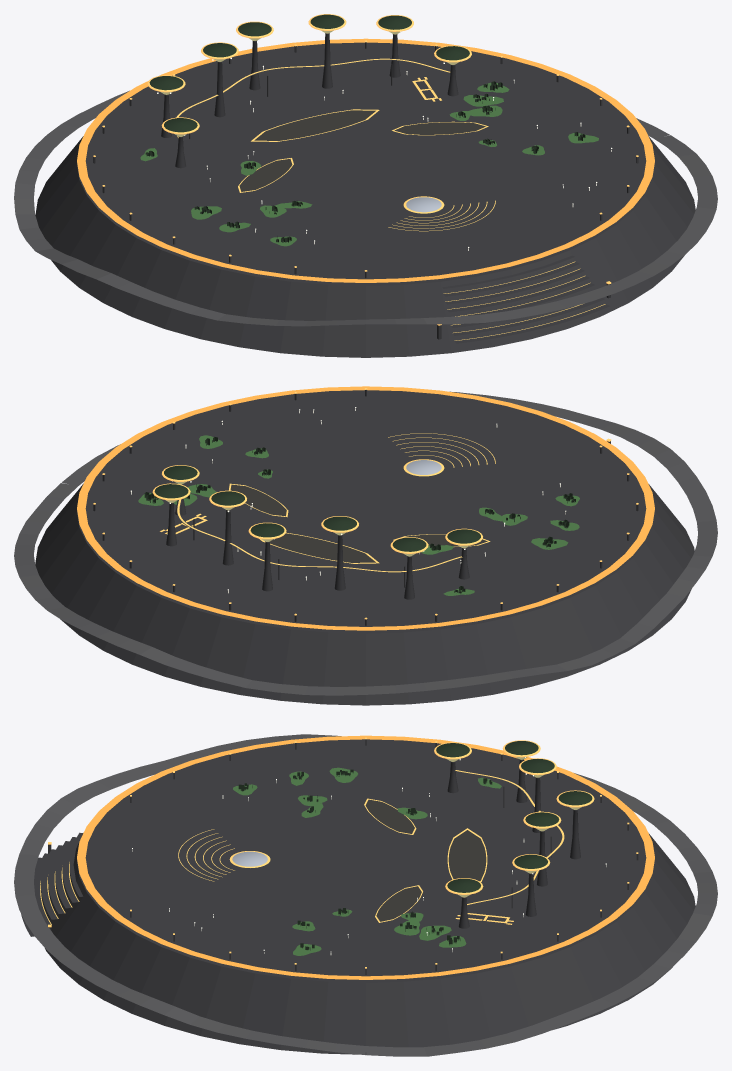
The model's file is plaza.glb.
The picture shows the model from 3 angles, top to bottom: view 1: azimuth 30°, elevation 25°; view 2: azimuth 150°, elevation 25°; view 3: azimuth 270°, elevation 25°; orthographic projection.
Parts seen in each view (by area): view 1: CentralEventPlaza, PlazaPodium, PlazaRingRoad, PlazaRing, PZ_Planters, PZ_Pool0, PZ_Flora, PZ_Pool2, PZ_Pool1, PZ_Stair7, PZ_Skywalk, PZ_Stair6 (+2 smaller); view 2: CentralEventPlaza, PlazaPodium, PlazaRingRoad, PlazaRing, PZ_Planters, PZ_Pool0, PZ_Flora, PZ_Pool2, PZ_Skywalk, PZ_SkywalkGlow; view 3: CentralEventPlaza, PlazaPodium, PlazaRingRoad, PlazaRing, PZ_Planters, PZ_Pool0, PZ_Flora, PZ_Pool2, PZ_Pool1.
Boxes of the visible parts, box(x1,y1,x2,y2) form: CentralEventPlaza: box(85, 42, 646, 284); PlazaPodium: box(35, 136, 695, 357); PlazaRingRoad: box(14, 90, 717, 326); PlazaRing: box(77, 38, 654, 282); PZ_Planters: box(140, 82, 598, 246); PZ_Pool0: box(254, 110, 375, 140); PZ_Flora: box(145, 81, 585, 242); PZ_Pool2: box(395, 122, 485, 134); PZ_Pool1: box(239, 159, 292, 191); PZ_Stair7: box(455, 304, 610, 343); PZ_Skywalk: box(175, 58, 449, 141); PZ_Stair6: box(453, 298, 604, 335); CentralEventPlaza: box(85, 390, 646, 631); PlazaPodium: box(35, 483, 694, 705); PlazaRingRoad: box(14, 391, 717, 695); PlazaRing: box(77, 386, 654, 630); PZ_Planters: box(138, 435, 579, 595); PZ_Pool0: box(269, 533, 375, 562); PZ_Flora: box(144, 437, 575, 593); PZ_Pool2: box(230, 484, 286, 516); PZ_Skywalk: box(176, 499, 462, 572); PZ_SkywalkGlow: box(177, 499, 462, 572); CentralEventPlaza: box(85, 739, 646, 981); PlazaPodium: box(41, 834, 695, 1054); PlazaRingRoad: box(14, 734, 717, 1056); PlazaRing: box(77, 735, 654, 979); PZ_Planters: box(233, 767, 501, 955); PZ_Pool0: box(448, 830, 486, 881); PZ_Flora: box(238, 769, 492, 950); PZ_Pool2: box(376, 886, 421, 921); PZ_Pool1: box(365, 799, 414, 833).
Size of the model in its own units: 638 by 123 by 638.
